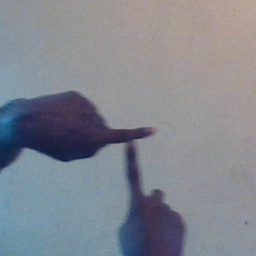T: (71, 95, 181, 218)
